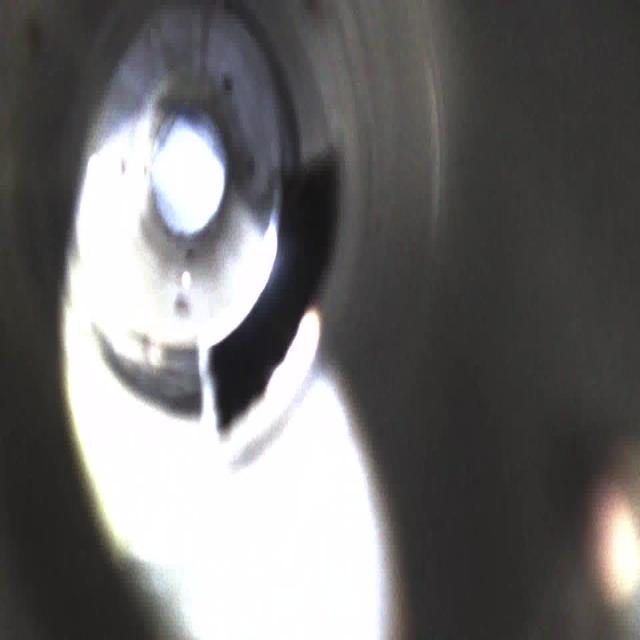hole: (197, 126, 355, 462)
